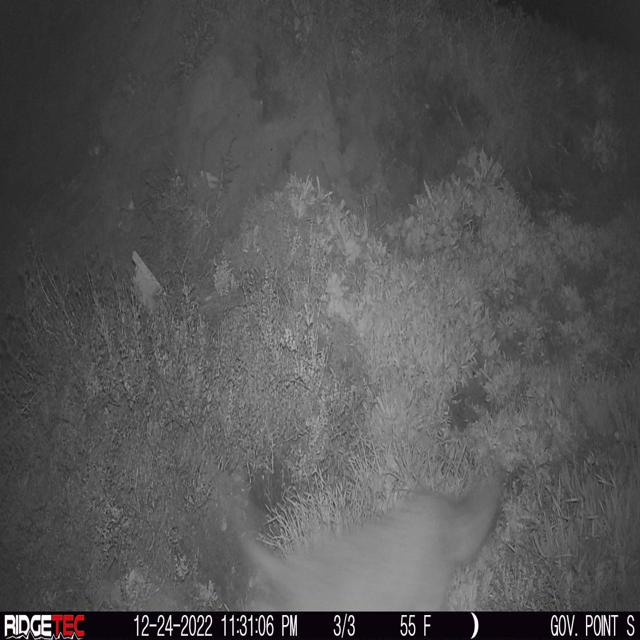coyote: (218, 473, 505, 611)
